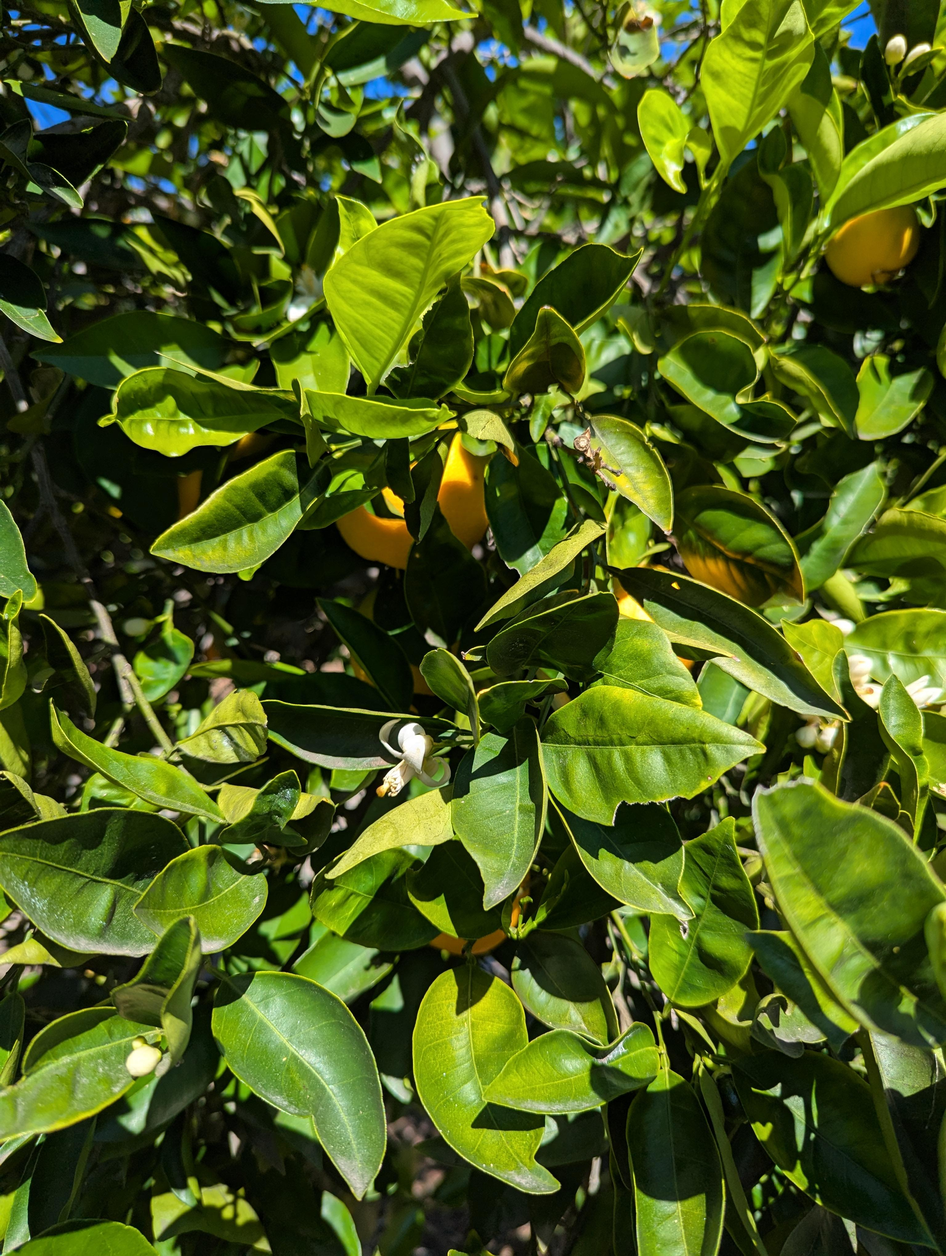orange: (335, 416, 496, 570), (404, 832, 531, 954), (824, 183, 921, 287)
